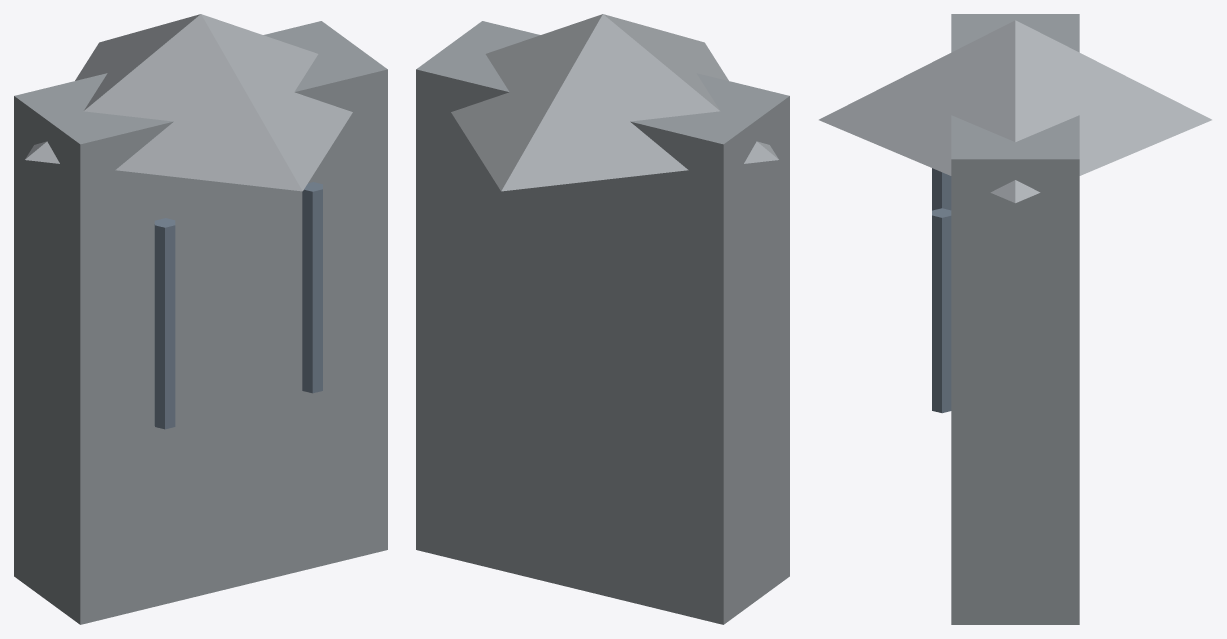
Rendered from map-exclusive-v3__grave_08.glb.
The picture shows the model from 3 angles, left to right: view 1: azimuth 30°, elevation 25°; view 2: azimuth 150°, elevation 25°; view 3: azimuth 270°, elevation 25°; orthographic projection. The views are drawn at different scales.
Visible parts, largest first — view 1: grave_08; view 2: grave_08; view 3: grave_08.
Boxes of the visible parts, x1=… form: grave_08: x1=14, y1=14, x2=387, y2=624; grave_08: x1=416, y1=14, x2=789, y2=624; grave_08: x1=819, y1=14, x2=1211, y2=624.
Size of the model in its own units: 0.86 by 1.28 by 0.86.
